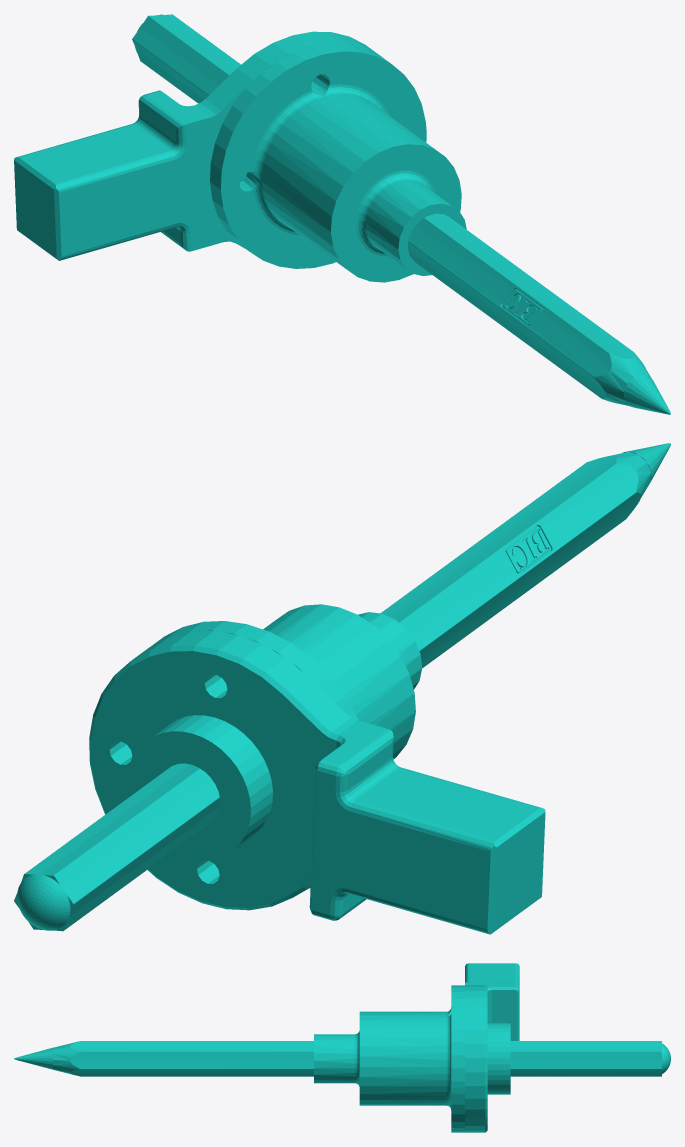
The model's file is Ben_pencil_effector.dae.
3 views of the same model, one above another, from view 1: azimuth 30°, elevation 25°; view 2: azimuth 150°, elevation 25°; view 3: azimuth 270°, elevation 25° (orthographic). The views are drawn at different scales.
Visible parts, largest first — view 1: _3; view 2: _3; view 3: _3.
Part boxes in pixels (x1=…): _3: x1=14, y1=14, x2=670, y2=414; _3: x1=14, y1=443, x2=670, y2=934; _3: x1=14, y1=963, x2=670, y2=1132.
Bounding box in the file's own units: 0.057 × 0.143 × 0.032.
